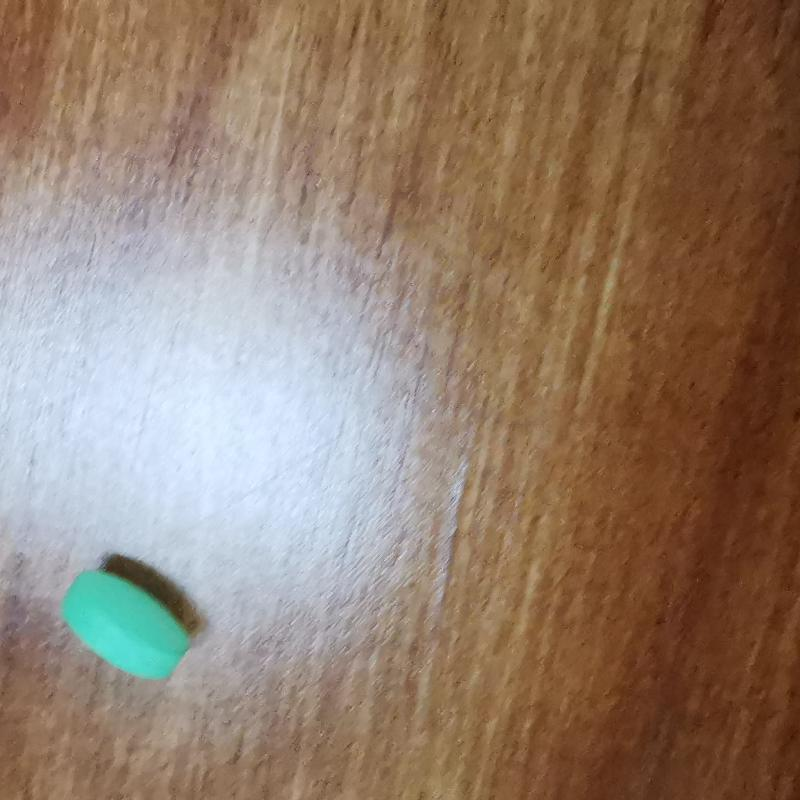pills: (52, 553, 208, 695)
